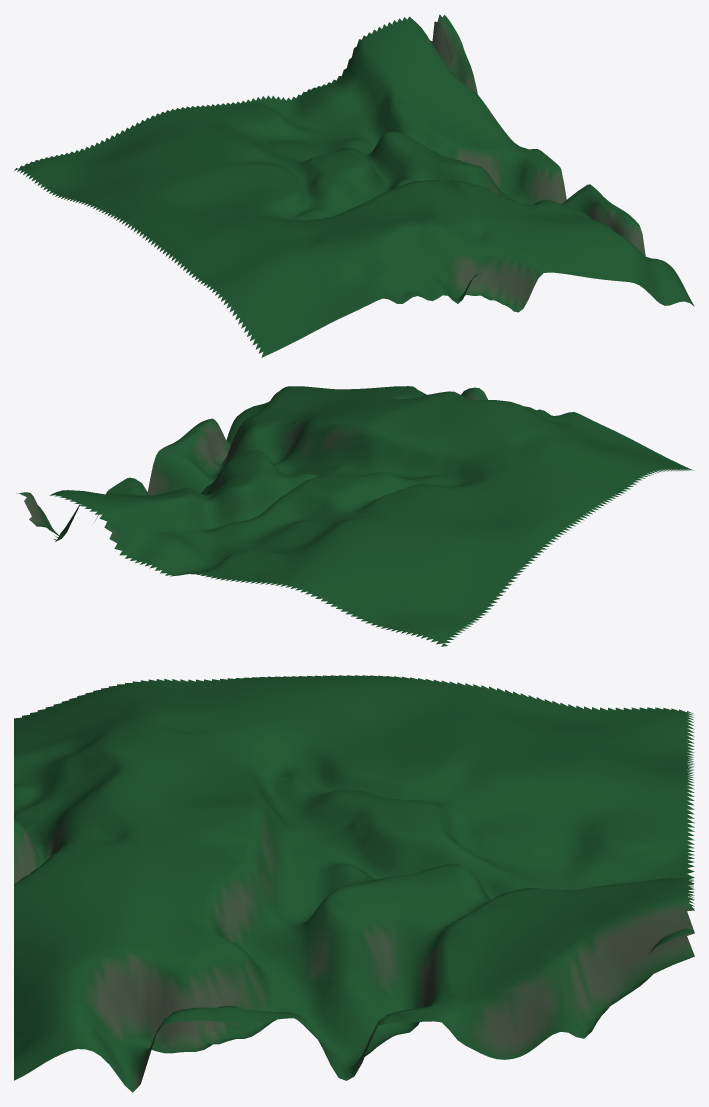
File: payo_land_x1_ym1_lod1.glb
3 renders of one model, top to bottom at view 1: azimuth 30°, elevation 25°; view 2: azimuth 150°, elevation 25°; view 3: azimuth 270°, elevation 25°, orthographic. The views are drawn at different scales.
Visible parts, largest first — view 1: payo_land_x1_ym1; view 2: payo_land_x1_ym1; view 3: payo_land_x1_ym1.
Boxes of the visible parts, x1,y1,x2,y2 form: payo_land_x1_ym1: [14, 14, 694, 357]; payo_land_x1_ym1: [16, 386, 694, 646]; payo_land_x1_ym1: [14, 675, 694, 1092].
Bounding box in the file's own units: 258 × 71.43 × 258.
